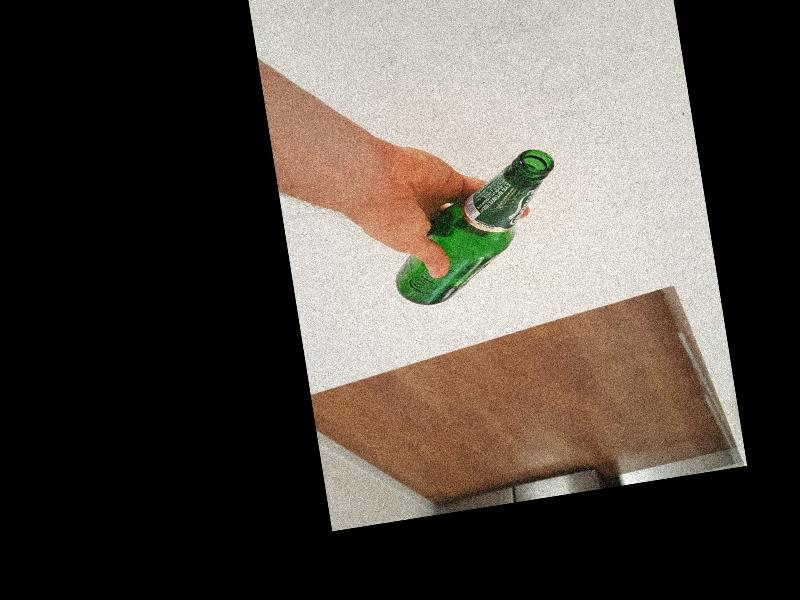Beer: (379, 143, 574, 309)
